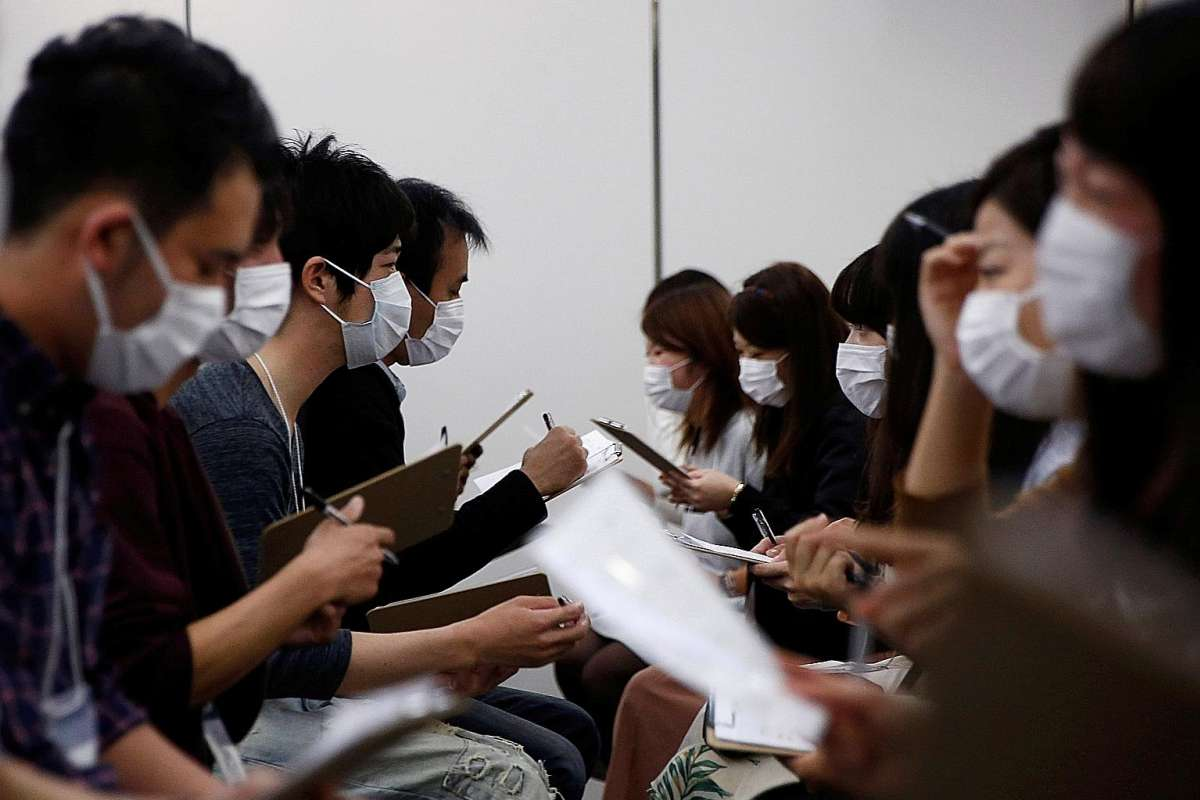mask: (90, 283, 218, 398), (956, 293, 1067, 425), (222, 260, 293, 364), (340, 278, 410, 366), (415, 292, 467, 369), (835, 348, 890, 417), (646, 365, 697, 413), (738, 363, 790, 407)
